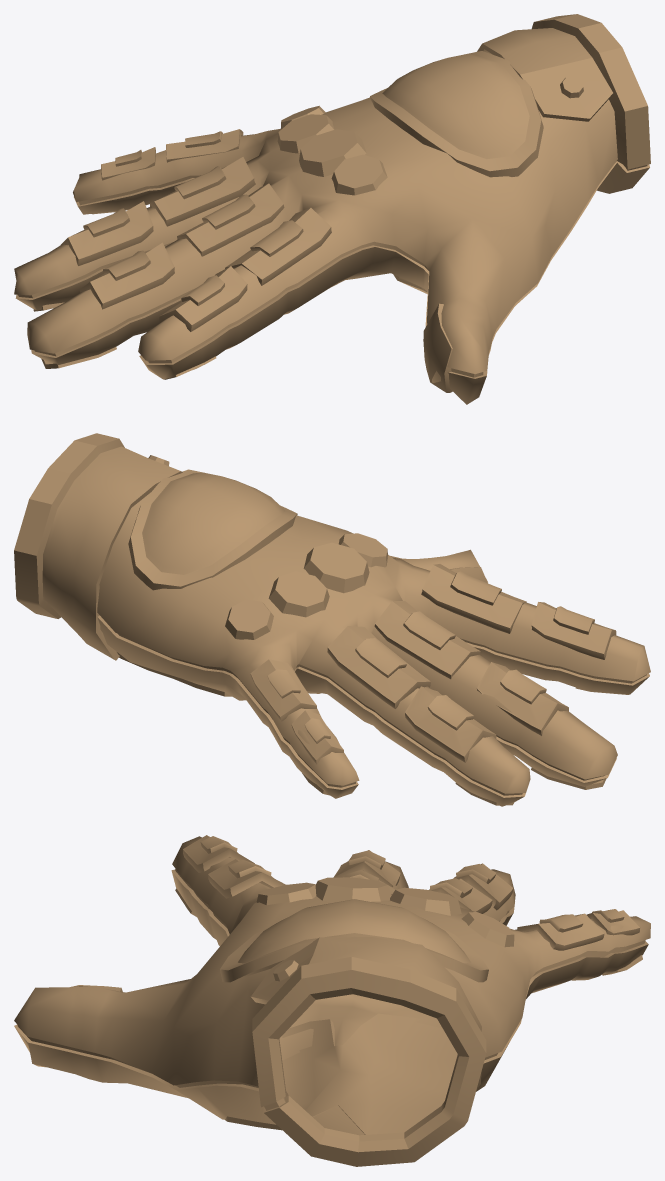
File: glove.fbx
3 views of the same model, one above another, from view 1: azimuth 30°, elevation 25°; view 2: azimuth 150°, elevation 25°; view 3: azimuth 270°, elevation 25° (orthographic). The views are drawn at different scales.
Visible parts, largest first — view 1: shoutao:polySurface1; view 2: shoutao:polySurface1; view 3: shoutao:polySurface1.
Boxes of the visible parts, <box> form: shoutao:polySurface1: <box>14,14,650,404</box>; shoutao:polySurface1: <box>14,433,650,806</box>; shoutao:polySurface1: <box>14,835,650,1166</box>.
Size of the model in its own units: 1.67 by 0.6011 by 1.38.
